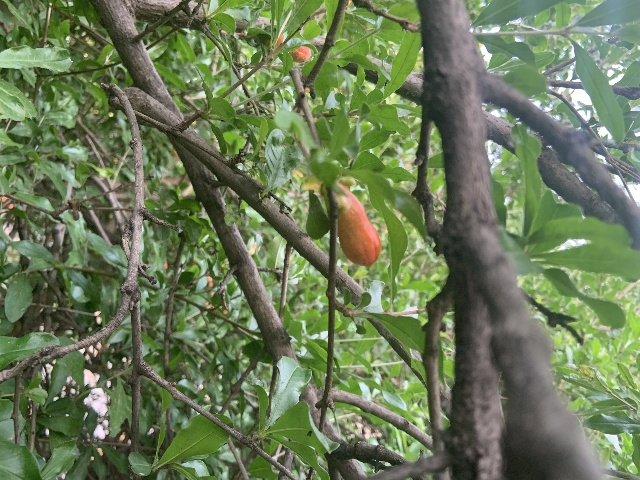bud: (336, 185, 380, 268), (290, 46, 311, 61)
